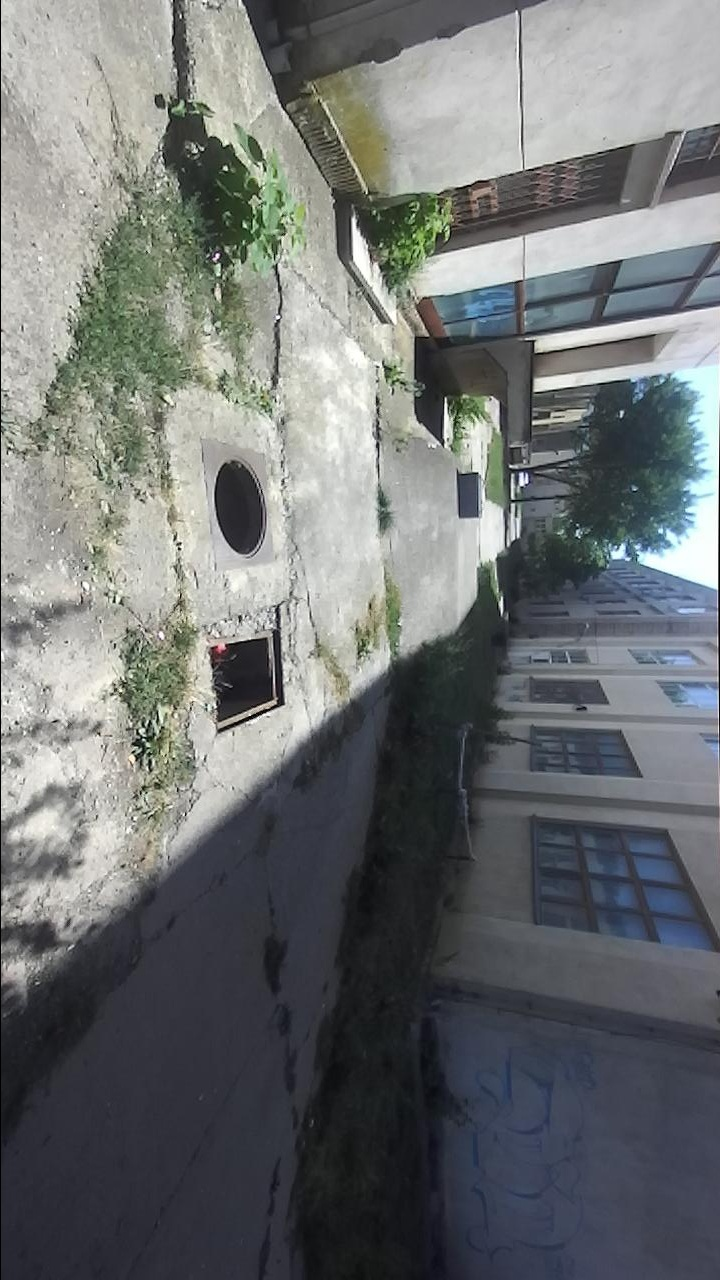drain: (202, 625, 288, 740), (210, 450, 270, 569)
